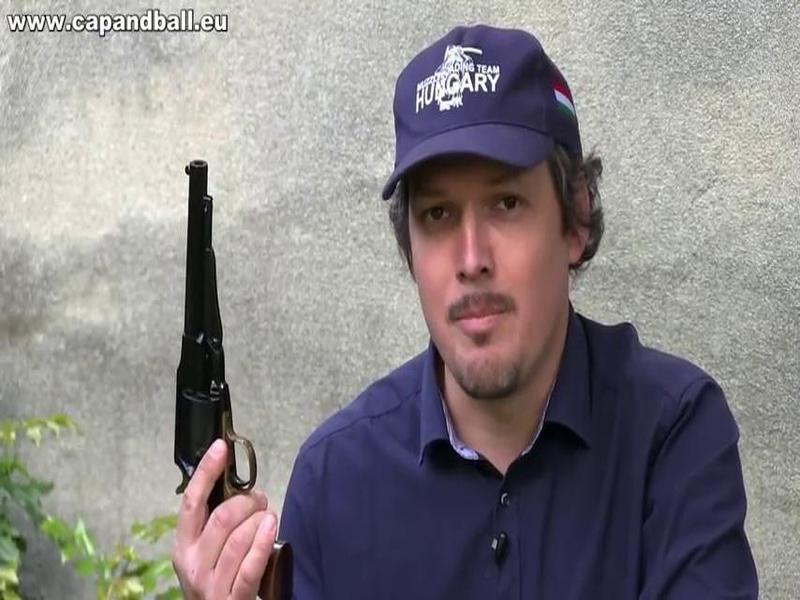Revolver: (157, 152, 301, 600)
